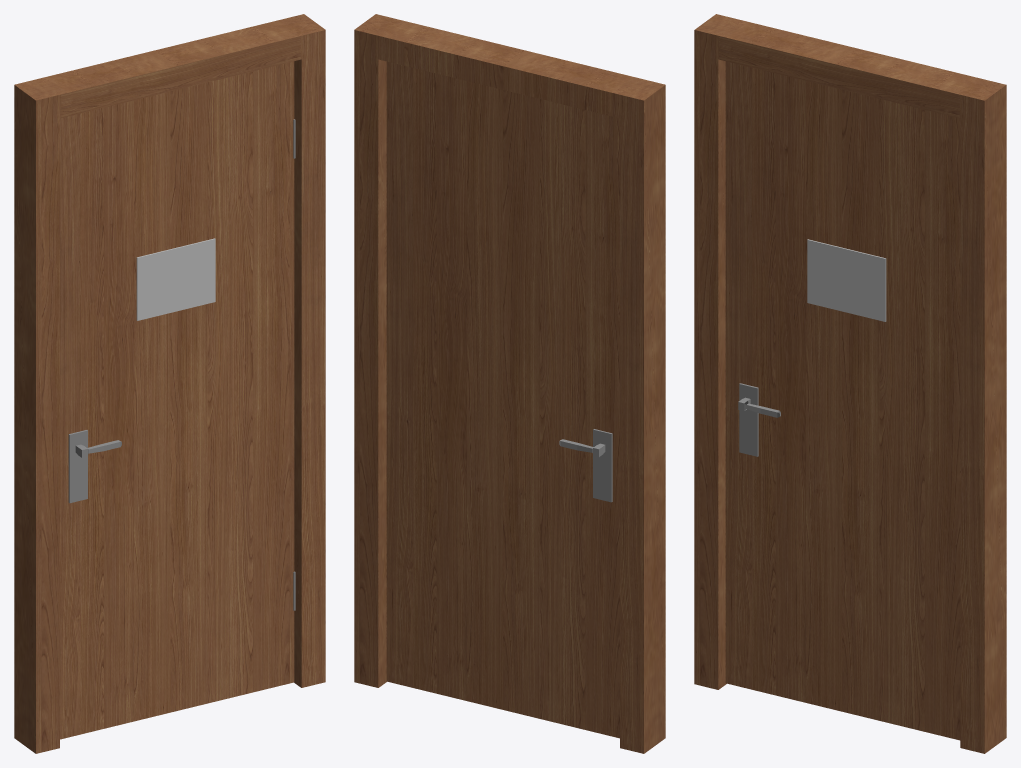
The model's file is Door 2.FBX.
3 renders of one model, left to right at view 1: azimuth 30°, elevation 25°; view 2: azimuth 150°, elevation 25°; view 3: azimuth 330°, elevation 25°, orthographic.
Parts seen in each view (by area): view 1: Door 2, door frame; view 2: Door 2, door frame; view 3: Door 2, door frame.
Part boxes in pixels (left/top/right/bottom): Door 2: left=60, top=61, right=295, bottom=739; door frame: left=14, top=14, right=325, bottom=753; Door 2: left=386, top=61, right=619, bottom=738; door frame: left=354, top=14, right=665, bottom=753; Door 2: left=725, top=61, right=960, bottom=740; door frame: left=694, top=14, right=1006, bottom=753.
Bounding box in the file's own units: 98.43 × 212 × 13.53.
